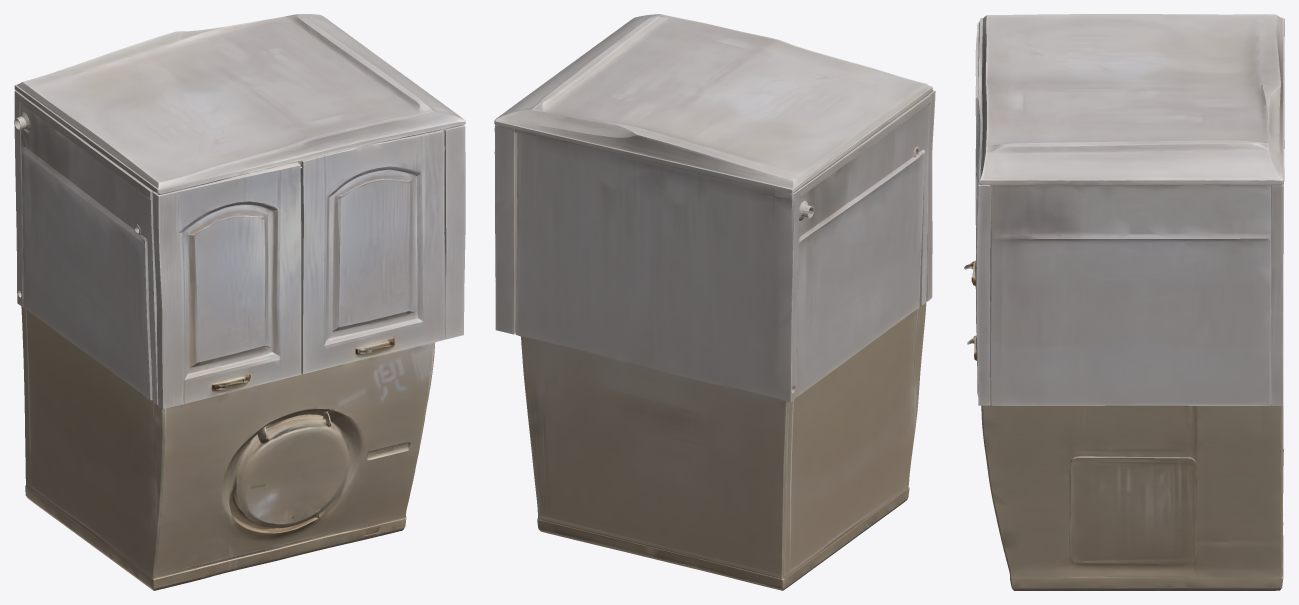
Rendered from pink-towel.glb.
3 renders of one model, left to right at view 1: azimuth 30°, elevation 25°; view 2: azimuth 150°, elevation 25°; view 3: azimuth 270°, elevation 25°, orthographic. The views are drawn at different scales.
Parts seen in each view (by area): view 1: model; view 2: model; view 3: model.
Boxes of the visible parts, x1,y1,x2,y2 form: model: (14, 14, 465, 590); model: (494, 14, 935, 590); model: (964, 14, 1284, 590).
Size of the model in its own units: 1.44 by 1.89 by 1.2.
Materials: 1 (1 with a texture image).
